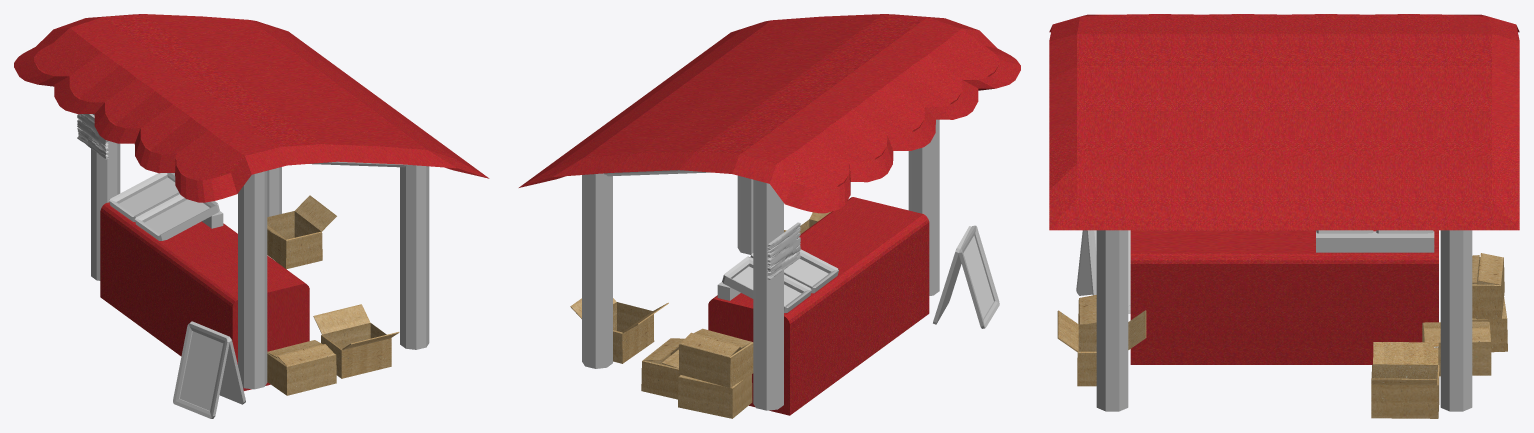
File: market stall TW.fbx
3 views of the same model, side by side, from view 1: azimuth 30°, elevation 25°; view 2: azimuth 150°, elevation 25°; view 3: azimuth 270°, elevation 25° (orthographic). The views are drawn at different scales.
Parts seen in each view (by area): view 1: Plane, Cube.003, Cube.002, Cube, Cube.018, Cube.011, Cube.016, Cube.015, Cube.005, Cube.004, Cube.017, Cube.001; view 2: Plane, Cube.003, Cube.002, Cube.001, Cube.012, Cube.018, Cube.014, Cube.016, Cube.013, Cube.004, Cube.005, Cube (+1 smaller); view 3: Plane, Cube.003, Cube, Cube.001, Cube.016, Cube.011, Cube.006, Cube.012, Cube.013, Cube.018, Cube.014, Cube.015.
Part boxes in pixels (box(x1,y1,x2,y2)): Plane: box(14, 14, 489, 202); Cube.003: box(100, 202, 309, 390); Cube.002: box(91, 114, 267, 389); Cube: box(400, 165, 429, 349); Cube.018: box(173, 321, 245, 418); Cube.011: box(313, 304, 399, 378); Cube.016: box(267, 195, 336, 269); Cube.015: box(267, 340, 336, 395); Cube.005: box(134, 194, 219, 240); Cube.004: box(109, 173, 179, 221); Cube.017: box(77, 114, 108, 159); Cube.001: box(267, 167, 281, 216); Plane: box(519, 14, 1020, 213); Cube.003: box(708, 197, 929, 415); Cube.002: box(753, 119, 939, 410); Cube.001: box(582, 173, 612, 368); Cube.012: box(678, 328, 753, 387); Cube.018: box(933, 225, 999, 328); Cube.014: box(678, 374, 752, 418); Cube.016: box(570, 298, 668, 363); Cube.013: box(641, 338, 684, 399); Cube.004: box(722, 256, 811, 312); Cube.005: box(750, 249, 838, 293); Cube: box(737, 175, 753, 254); Plane: box(1049, 14, 1519, 230); Cube.003: box(1130, 230, 1438, 364); Cube: box(1096, 230, 1128, 411); Cube.001: box(1440, 230, 1472, 411); Cube.016: box(1371, 342, 1439, 418); Cube.011: box(1057, 310, 1146, 386); Cube.006: box(1316, 231, 1434, 252); Cube.012: box(1472, 253, 1504, 318); Cube.013: box(1422, 321, 1491, 376); Cube.018: box(1076, 230, 1130, 313); Cube.014: box(1472, 297, 1507, 352); Cube.015: box(1078, 295, 1096, 324).
Bounding box in the file's own units: 1194 × 1026 × 1454.
